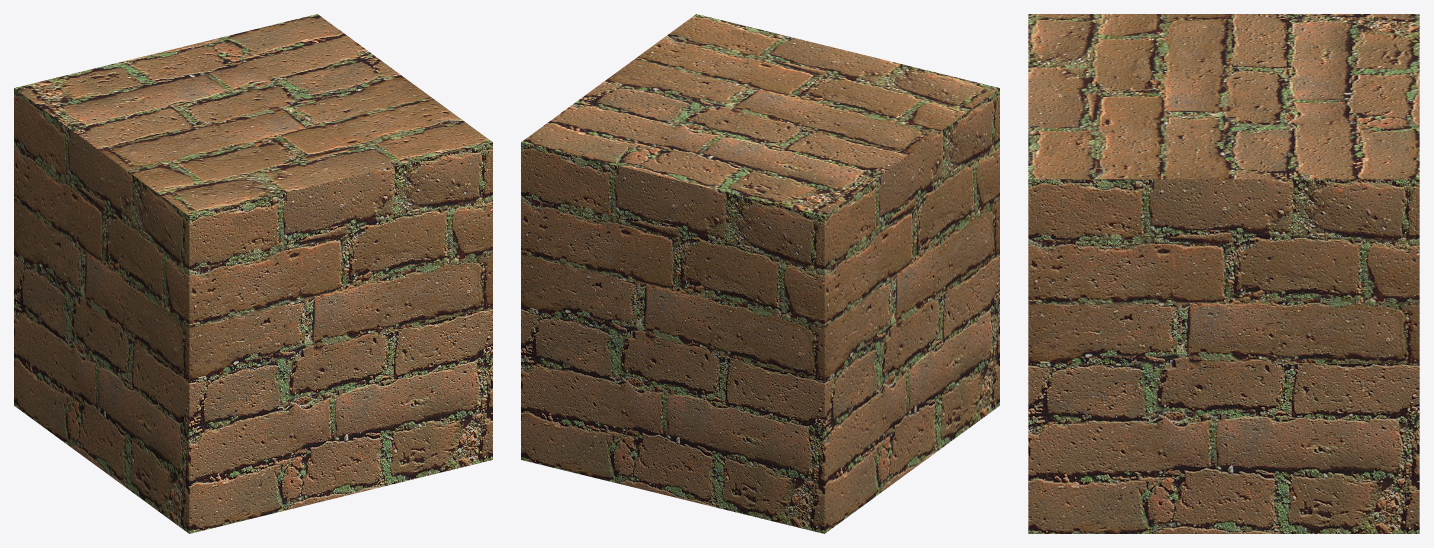
3 renders of one model, left to right at view 1: azimuth 30°, elevation 25°; view 2: azimuth 150°, elevation 25°; view 3: azimuth 270°, elevation 25°, orthographic. The views are drawn at different scales.
Parts seen in each view (by area): view 1: Cube; view 2: Cube; view 3: Cube.
Boxes of the visible parts, left/top/right/bottom form: Cube: left=14, top=14, right=492, bottom=533; Cube: left=521, top=14, right=999, bottom=533; Cube: left=1028, top=14, right=1419, bottom=533.
Bounding box in the file's own units: 0.2 × 0.2 × 0.2.
Materials: 1 (1 with a texture image).
